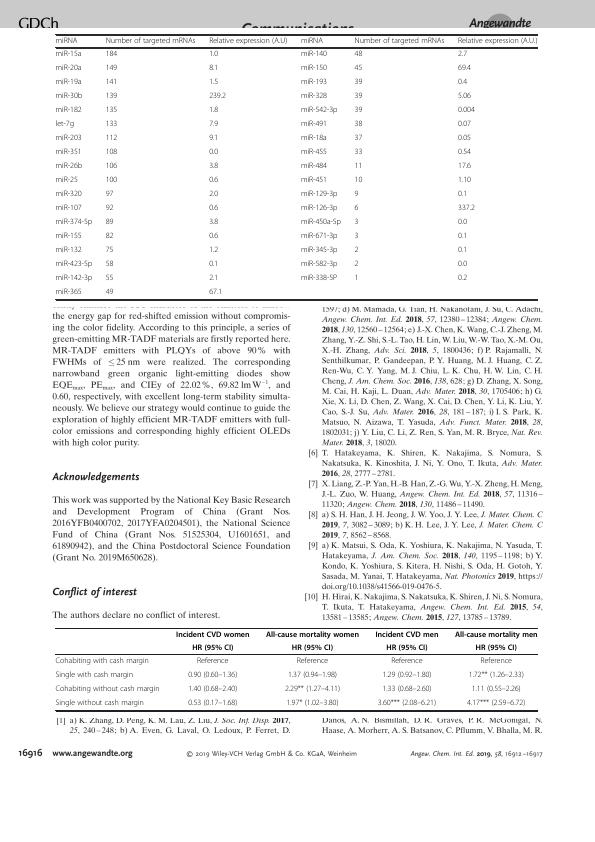borderless: (54, 33, 537, 299), (54, 626, 537, 710)
cell: (54, 684, 160, 694), (54, 656, 150, 666), (55, 698, 145, 708), (265, 630, 360, 639), (353, 37, 445, 46), (105, 37, 196, 46), (54, 670, 134, 680), (454, 630, 538, 639), (457, 37, 538, 46), (208, 37, 288, 46), (175, 630, 250, 639), (377, 698, 437, 708), (466, 698, 526, 708), (374, 630, 439, 639), (468, 670, 525, 680), (284, 684, 341, 694), (285, 698, 339, 708), (187, 670, 238, 680), (287, 670, 338, 680), (381, 670, 432, 680), (187, 684, 238, 694), (381, 684, 432, 694), (471, 684, 522, 694), (187, 698, 238, 708), (191, 643, 234, 653), (291, 643, 334, 653), (385, 643, 428, 653), (475, 643, 518, 653), (300, 218, 342, 228), (300, 106, 338, 116), (300, 190, 338, 200), (300, 204, 338, 214), (55, 218, 93, 228), (300, 232, 338, 242), (300, 246, 338, 256), (55, 260, 93, 270), (300, 260, 338, 270), (55, 274, 93, 284), (300, 274, 338, 284), (390, 656, 424, 666), (479, 656, 513, 666), (196, 656, 229, 666), (296, 656, 329, 666), (300, 50, 328, 60), (300, 64, 328, 74), (300, 78, 328, 88), (55, 92, 83, 102), (300, 92, 328, 102), (300, 120, 328, 130), (300, 134, 328, 144), (300, 148, 328, 158), (55, 162, 83, 172), (300, 162, 328, 172), (300, 176, 328, 186), (55, 50, 82, 60), (55, 64, 82, 74), (55, 78, 82, 88), (55, 106, 82, 116), (55, 134, 82, 144), (55, 148, 82, 158), (55, 190, 82, 200), (55, 204, 82, 214), (55, 232, 82, 242), (55, 246, 82, 256), (55, 288, 82, 298), (55, 176, 79, 186), (300, 37, 324, 46), (55, 37, 78, 46), (55, 120, 75, 130), (208, 92, 227, 102), (457, 106, 476, 116), (457, 204, 476, 214), (457, 64, 472, 74), (457, 92, 472, 102), (457, 120, 472, 130), (457, 134, 472, 144), (457, 148, 472, 158), (457, 162, 472, 172), (457, 176, 472, 186), (208, 288, 223, 298), (105, 50, 118, 60), (105, 64, 118, 74), (105, 78, 118, 88), (105, 92, 118, 102), (105, 106, 118, 116), (105, 120, 118, 130), (105, 134, 118, 144), (105, 148, 118, 158), (105, 162, 118, 172), (105, 176, 118, 186), (208, 50, 219, 60), (457, 50, 468, 60), (208, 64, 219, 74), (208, 78, 219, 88), (457, 78, 468, 88), (208, 106, 219, 116), (208, 120, 219, 130), (208, 134, 219, 144), (208, 148, 219, 158), (208, 162, 219, 172), (208, 176, 219, 186), (208, 190, 219, 200), (457, 190, 468, 200), (208, 204, 219, 214), (208, 218, 219, 228), (457, 218, 468, 228), (208, 232, 219, 242), (457, 232, 468, 242), (208, 246, 219, 256), (457, 246, 468, 256), (208, 260, 219, 270), (457, 260, 468, 270), (208, 274, 219, 284), (457, 274, 468, 284), (353, 50, 363, 60), (353, 64, 363, 74), (353, 78, 363, 88), (353, 92, 363, 102), (353, 106, 363, 116), (353, 120, 363, 130), (353, 134, 363, 144), (353, 148, 363, 158), (353, 162, 363, 172), (353, 176, 363, 186), (105, 190, 114, 200), (105, 204, 114, 214), (105, 218, 114, 228), (105, 232, 114, 242), (105, 246, 114, 256), (105, 260, 114, 270), (105, 274, 114, 284), (105, 288, 114, 298), (353, 190, 359, 200), (353, 204, 359, 214), (353, 218, 359, 228), (353, 232, 359, 242), (353, 246, 359, 256), (353, 260, 359, 270), (353, 274, 359, 284)
